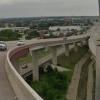Bridge: (4, 26, 98, 95)
